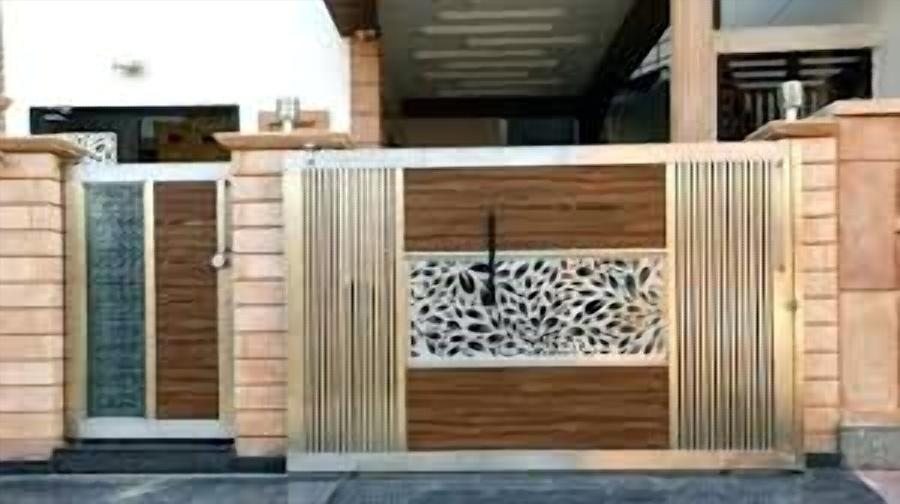Door: (719, 50, 872, 294)
Gate: (282, 142, 802, 473), (62, 162, 236, 439)
Window-without-grill: (499, 111, 588, 164)
